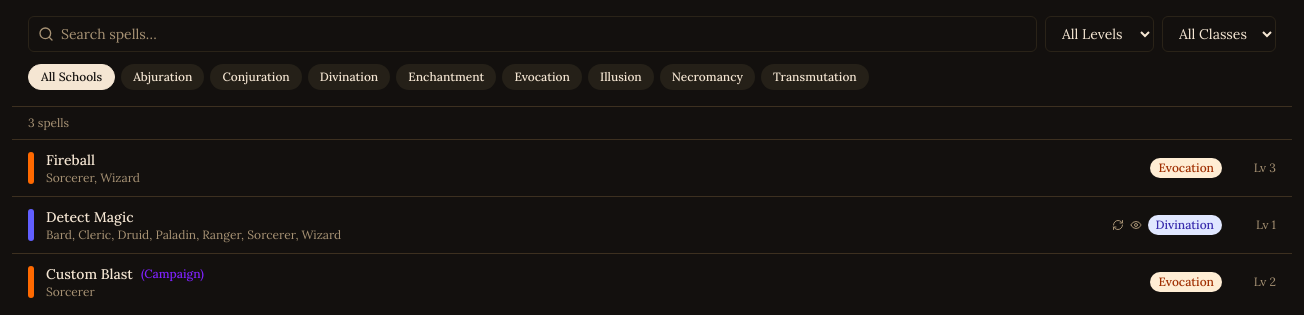
Scenario: SpellsTab › filters spells by school
Expected: the text "Detect Magic" is shown, [46,207,134,227]
Click the button with test id "school-filter-Divination". click: (349, 77)
box: [308,64,390,90]
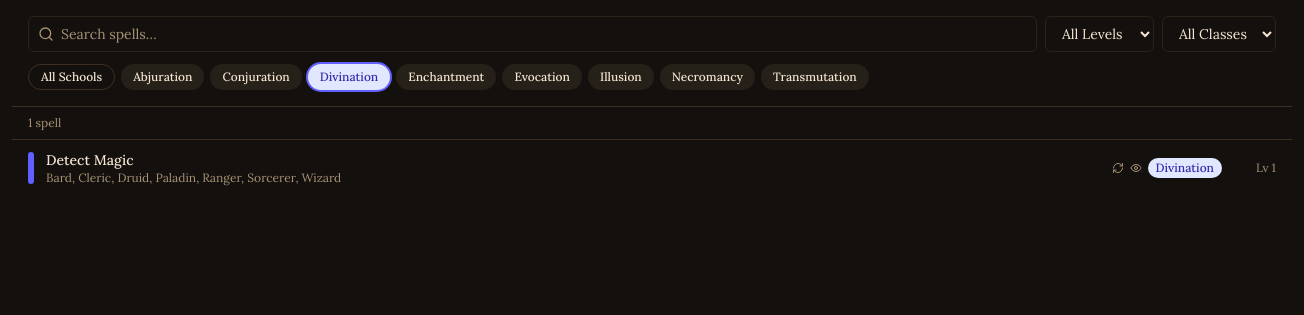
Expected: the text "Detect Magic" is shown, [46,150,134,170]
Now the button "Fireball" is gone
